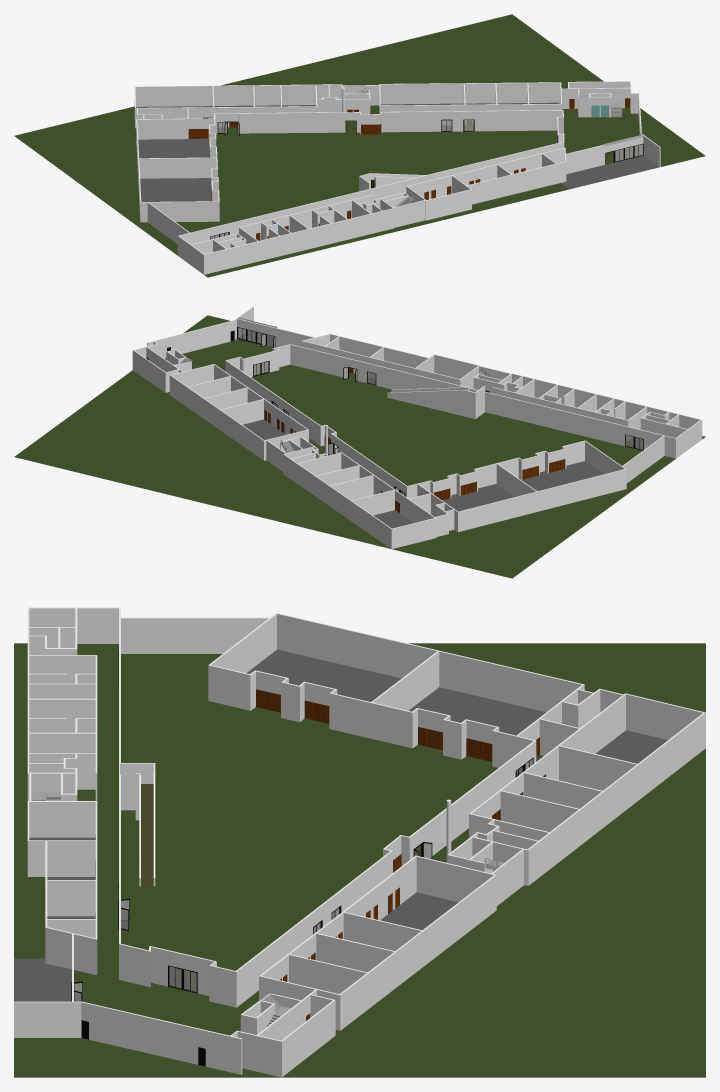
File: Informatica_UNLP_cutted.obj
The picture shows the model from 3 angles, top to bottom: view 1: azimuth 30°, elevation 25°; view 2: azimuth 150°, elevation 25°; view 3: azimuth 270°, elevation 25°; orthographic projection. The views are drawn at different scales.
Visible parts, largest first — view 1: ground_1, wall_45_268, wall_46_274, wall_11_64, wall_8_47, wall_76_454, wall_128_766, wall_1_5, wall_3_17, room_151_897, wall_75_449, room_182_928 (+18 smaller); view 2: ground_1, wall_8_46, wall_73_436, wall_45_269, wall_46_275, wall_25_148, wall_11_65, wall_132_791, room_151_897, wall_1_4, wall_128_767, wall_3_16 (+23 smaller); view 3: ground_1, wall_73_437, wall_45_269, wall_46_275, wall_25_149, wall_78_466, wall_11_65, room_151_897, wall_63_376, room_150_896, wall_32_191, wall_76_455 (+43 smaller).
Part boxes in pixels (bbox=[...]): ground_1: bbox=[14, 14, 705, 277]; wall_45_268: bbox=[135, 84, 341, 106]; wall_46_274: bbox=[380, 82, 560, 104]; wall_11_64: bbox=[382, 110, 562, 132]; wall_8_47: bbox=[180, 142, 564, 244]; wall_76_454: bbox=[239, 112, 360, 133]; wall_128_766: bbox=[259, 214, 371, 261]; wall_1_5: bbox=[408, 148, 564, 199]; wall_3_17: bbox=[467, 164, 556, 204]; room_151_897: bbox=[140, 178, 211, 201]; wall_75_449: bbox=[139, 158, 216, 178]; room_182_928: bbox=[561, 155, 659, 189]; ground_1: bbox=[14, 315, 705, 578]; wall_8_46: bbox=[290, 344, 675, 458]; wall_73_436: bbox=[458, 469, 626, 531]; wall_45_269: bbox=[283, 454, 391, 548]; wall_46_275: bbox=[169, 375, 263, 460]; wall_25_148: bbox=[147, 320, 234, 358]; wall_11_65: bbox=[225, 360, 321, 446]; wall_132_791: bbox=[387, 390, 463, 416]; room_151_897: bbox=[518, 461, 603, 491]; wall_1_4: bbox=[301, 341, 460, 385]; wall_128_767: bbox=[534, 379, 645, 419]; wall_3_16: bbox=[339, 336, 428, 367]; ground_1: bbox=[14, 643, 705, 1077]; wall_73_437: bbox=[277, 614, 581, 711]; wall_45_269: bbox=[528, 713, 705, 885]; wall_46_275: bbox=[340, 875, 496, 1030]; wall_25_149: bbox=[81, 1002, 241, 1074]; wall_78_466: bbox=[121, 618, 268, 653]; wall_11_65: bbox=[236, 851, 392, 1007]; room_151_897: bbox=[246, 649, 401, 701]; wall_63_376: bbox=[329, 693, 412, 748]; room_150_896: bbox=[408, 687, 546, 735]; wall_32_191: bbox=[262, 857, 416, 982]; wall_76_455: bbox=[409, 757, 515, 859].
Size of the model in its own units: 10956 by 790 by 7378.
